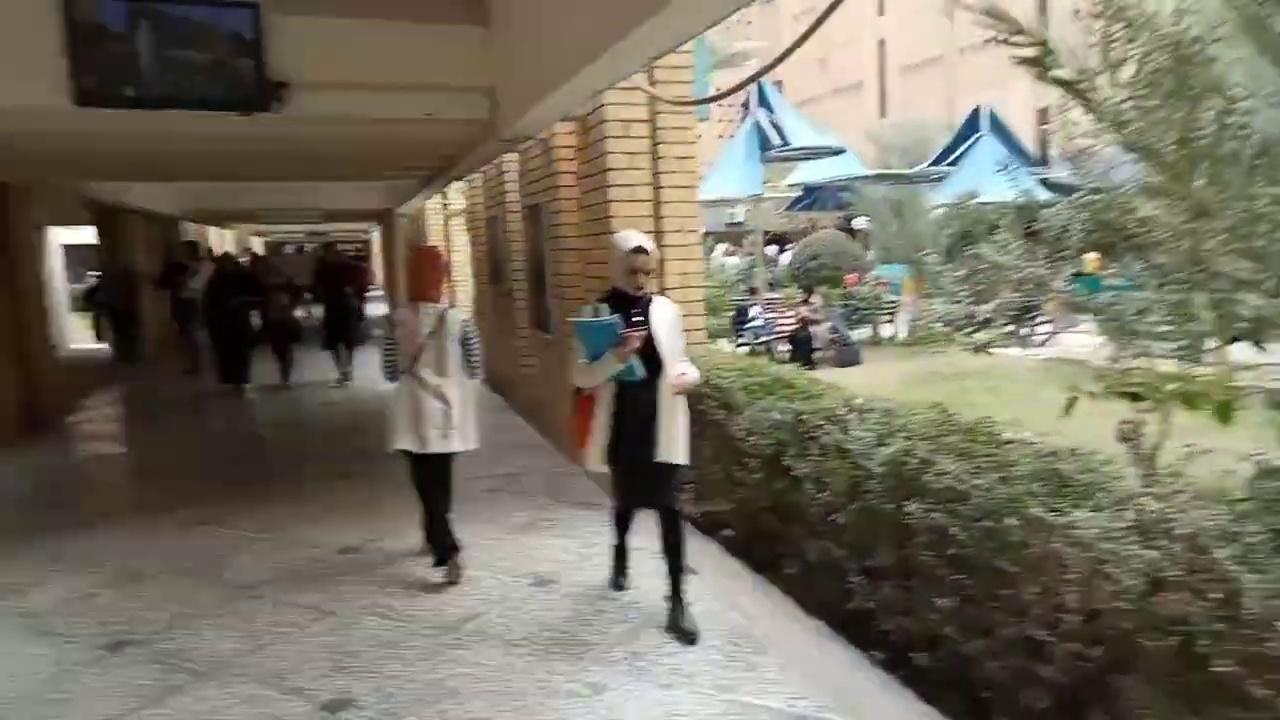car: (730, 295, 862, 368)
person: (570, 227, 702, 646), (383, 244, 484, 585), (787, 282, 826, 369)
tree: (704, 357, 1280, 663), (972, 0, 1276, 366)
